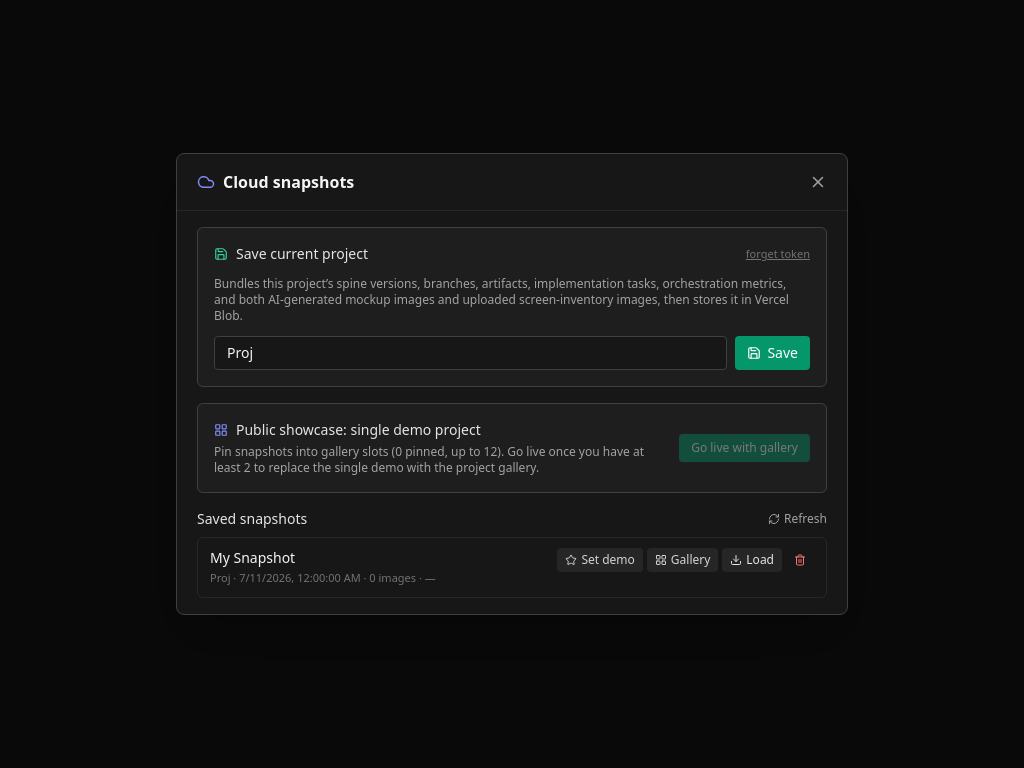
Test: SnapshotsPanel pin-time completeness gate (SYN-003) › BLOCKS pinning a snapshot whose mockup spec describes screens but carries 0 images
The width and height of the screenshot is (1024, 768).
expect the text "My Snapshot" is shown: met, box [210,548,295,567]
Click the button "Set demo" at (600, 560), box [557,548,643,572]
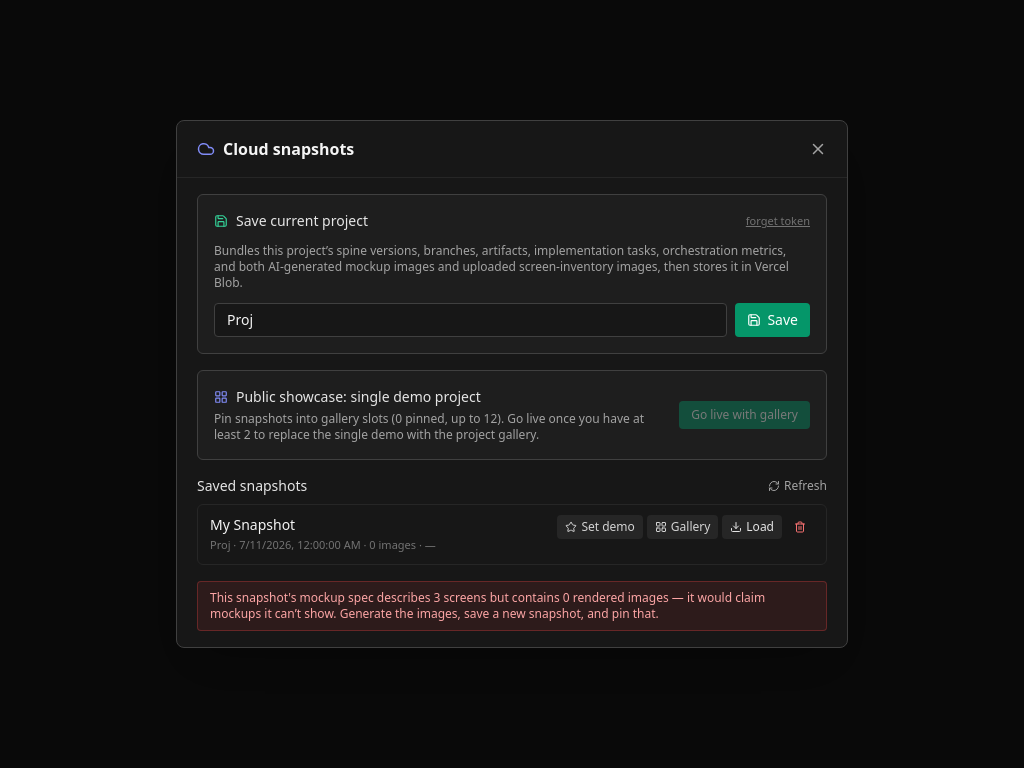
expect the text "describes 3 screens but contains 0 rendered images" is shown: met, box [210,589,765,622]
